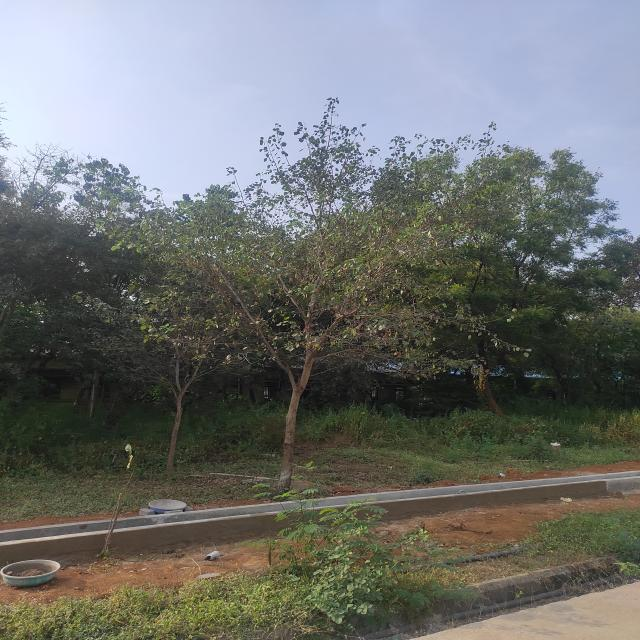Devakanchan tree: (99, 119, 512, 370)
Neem Tree: (432, 132, 635, 301)
